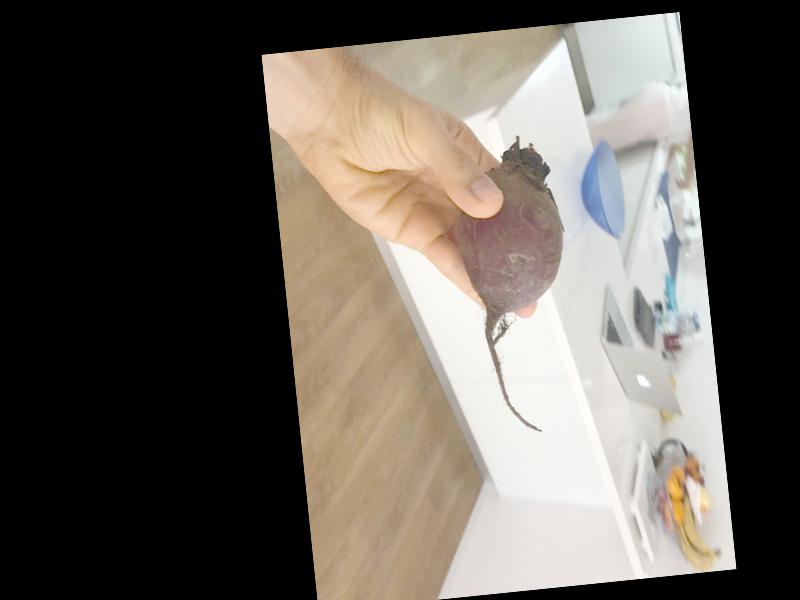Beet: (450, 135, 582, 438)
